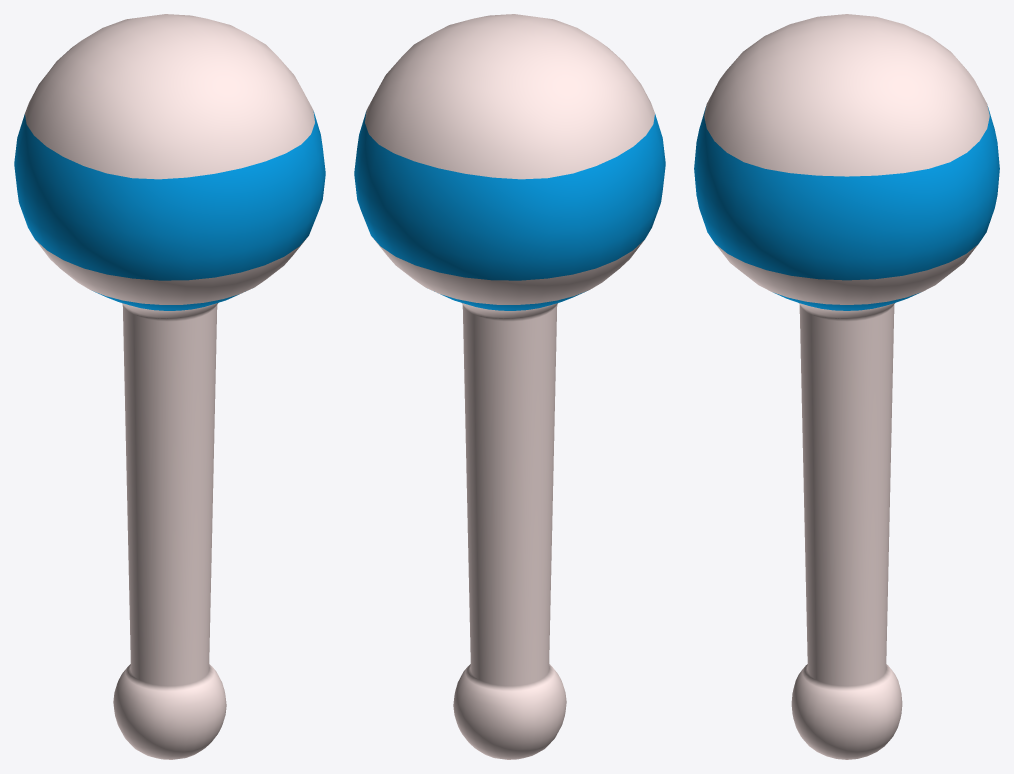
The model's file is Public_14_Skittle_2.glb.
3 renders of one model, left to right at view 1: azimuth 30°, elevation 25°; view 2: azimuth 150°, elevation 25°; view 3: azimuth 270°, elevation 25°, orthographic.
Visible parts, largest first — view 1: Public_14_Skittle_2; view 2: Public_14_Skittle_2; view 3: Public_14_Skittle_2.
Boxes of the visible parts, x1,y1,x2,y2 form: Public_14_Skittle_2: (14, 14, 325, 759); Public_14_Skittle_2: (354, 14, 665, 759); Public_14_Skittle_2: (694, 14, 999, 759).
Size of the model in its own units: 0.2979 by 0.7779 by 0.2979.
Materials: 1 (1 with a texture image).
